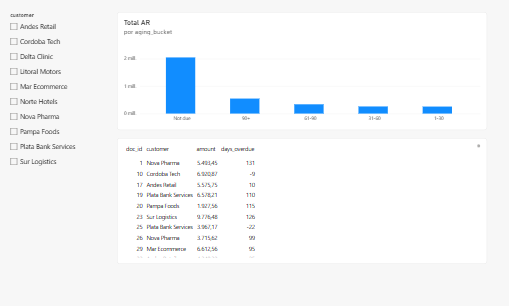

What the dashboard file says about the page in this screenshot:
{"tool":"powerbi","page":{"name":"Página 2","canvas":[1920,1080],"ordinal":1},"visuals":[{"type":"lineClusteredColumnComboChart","fields":{"Category":["v_ar_aging.aging_bucket"],"Y":["v_ar_aging.Total AR"]},"box":[310,40,940,300],"z":0},{"type":"slicer","fields":{"Values":["v_ar_aging.customer"]},"box":[30,40,250,640],"z":1000},{"type":"tableEx","fields":{"Values":["v_ar_aging.doc_id","v_ar_aging.customer","v_ar_aging.amount","v_ar_aging.days_overdue"]},"box":[310,360,940,320],"z":2000}]}

Visuals, with their boxes on the page's 1920x1080 design canvas (x1, y1, x2, y2). These are canvas units, not pixel positions in the 509x306 screenshot, which may show the page scaled, cropped or inside an application window:
lineClusteredColumnComboChart - v_ar_aging.aging_bucket x v_ar_aging.Total AR: l=310, t=40, r=1250, b=340
slicer - v_ar_aging.customer: l=30, t=40, r=280, b=680
tableEx - v_ar_aging.doc_id x v_ar_aging.customer: l=310, t=360, r=1250, b=680
